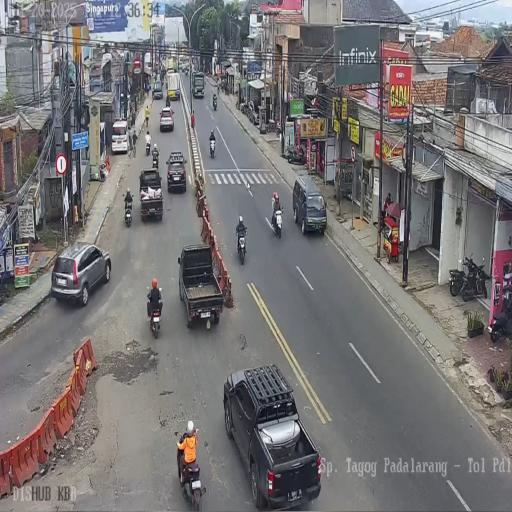3: (166, 70, 180, 102), (191, 70, 205, 98), (166, 56, 177, 74), (178, 56, 188, 72), (144, 52, 151, 74), (160, 57, 167, 72)
car: (223, 367, 317, 508), (50, 242, 111, 306), (291, 175, 325, 236), (139, 168, 164, 222), (166, 151, 187, 193), (112, 119, 130, 155), (159, 106, 174, 132), (152, 80, 163, 100), (190, 66, 196, 76)
truck: (460, 255, 489, 302), (489, 290, 511, 342), (148, 299, 161, 339), (448, 268, 466, 296), (236, 224, 247, 264), (286, 144, 305, 165), (123, 197, 133, 227), (152, 146, 159, 170), (209, 136, 216, 158), (240, 100, 249, 116), (144, 137, 150, 156), (212, 94, 218, 110), (276, 120, 281, 138), (166, 94, 170, 107), (166, 74, 169, 87)
